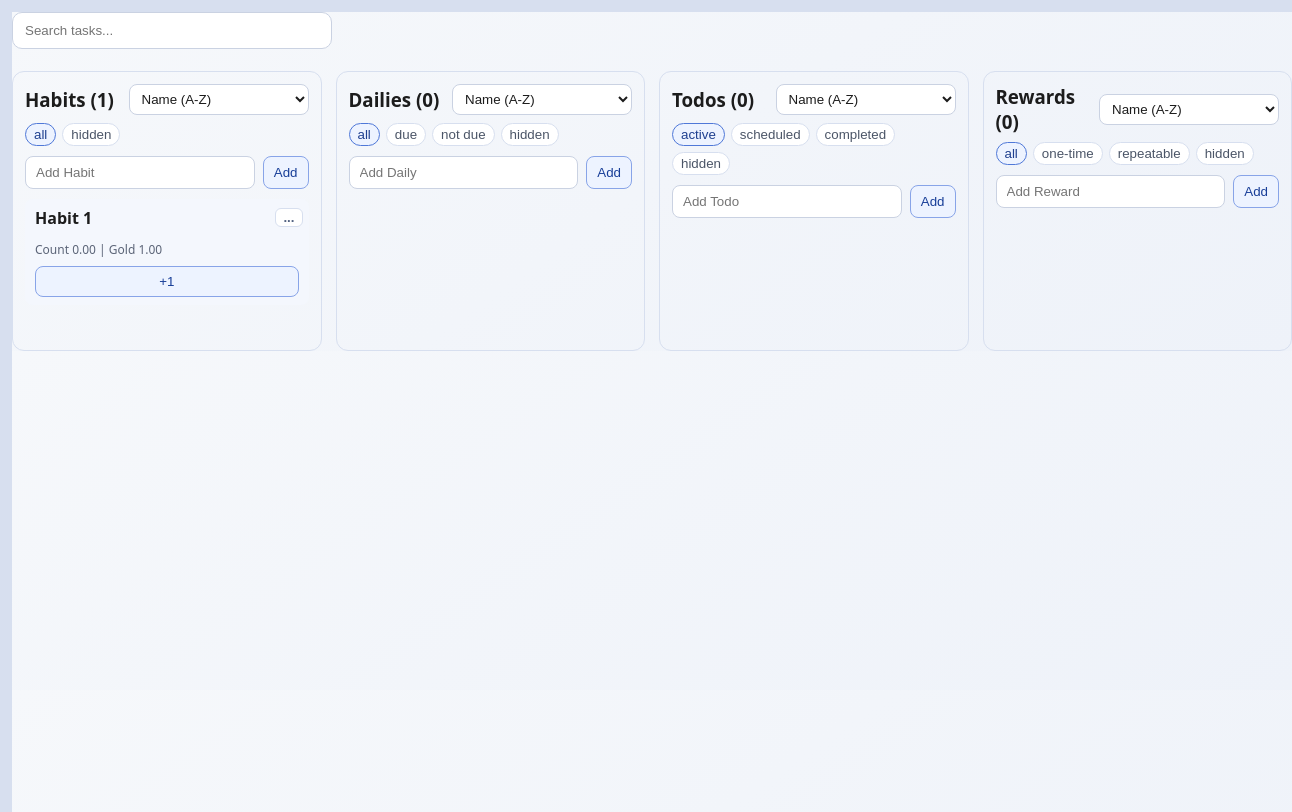
TaskBoardPage › opens/closes quick action menu on outside click and on action click
The width and height of the screenshot is (1292, 812).
Expected: the text "Habit 1" is shown, [35,207,92,229]
Step 1. Click the button "..." → (289, 218), box [275,208,302,227]
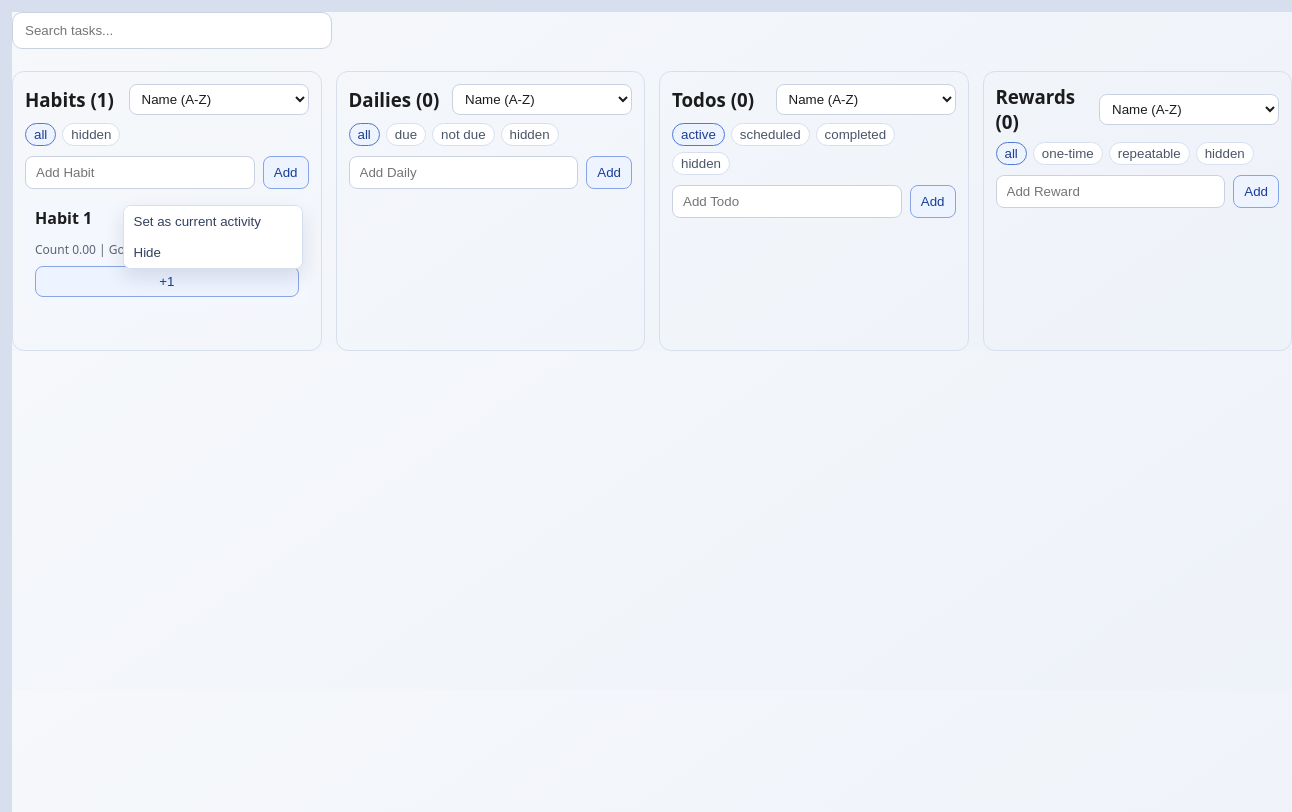
Expected: the button "Set as current activity" is shown, [124,206,302,237]
Step 2. Press the mouse on the element that starts with "Habits" → (652, 182), box [12,12,1291,351]
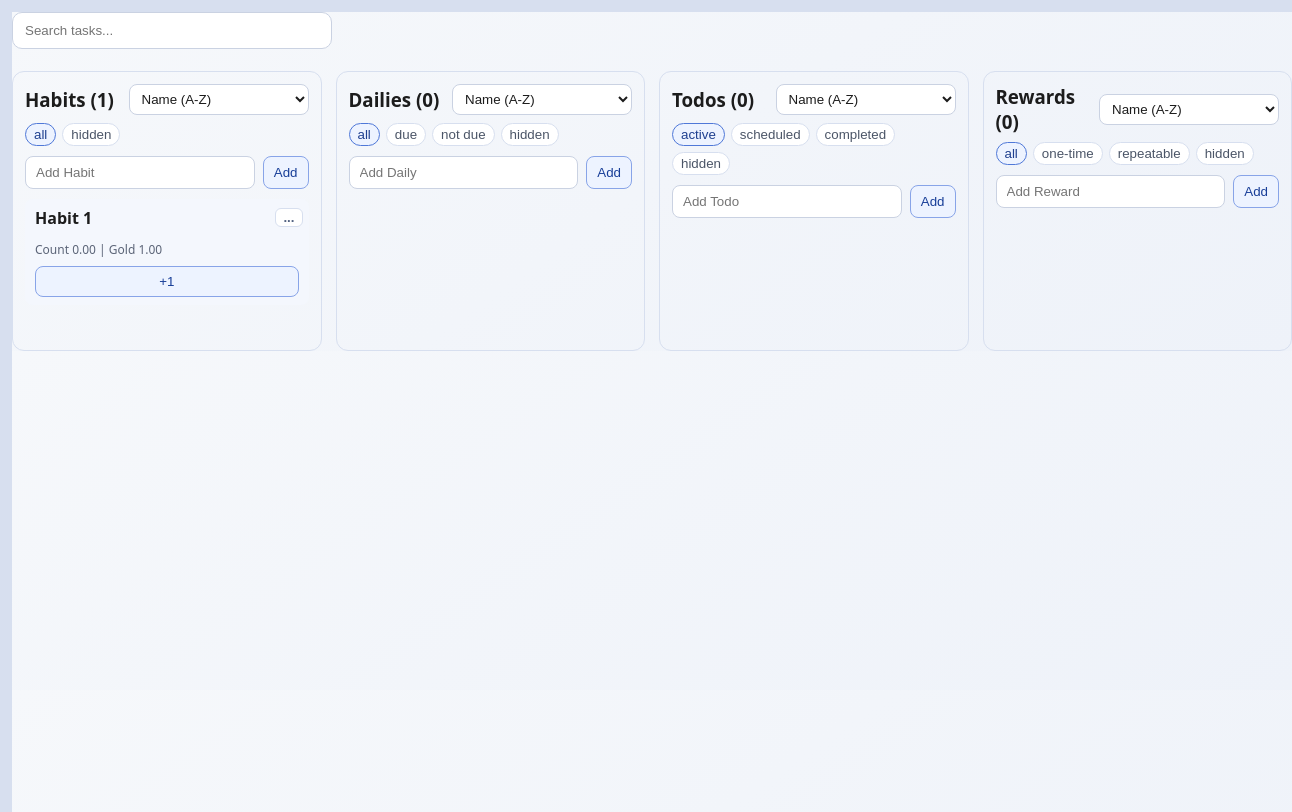
Expected: the button "Set as current activity" is gone
Step 3. Click the button "..." → (289, 218), box [275,208,302,227]
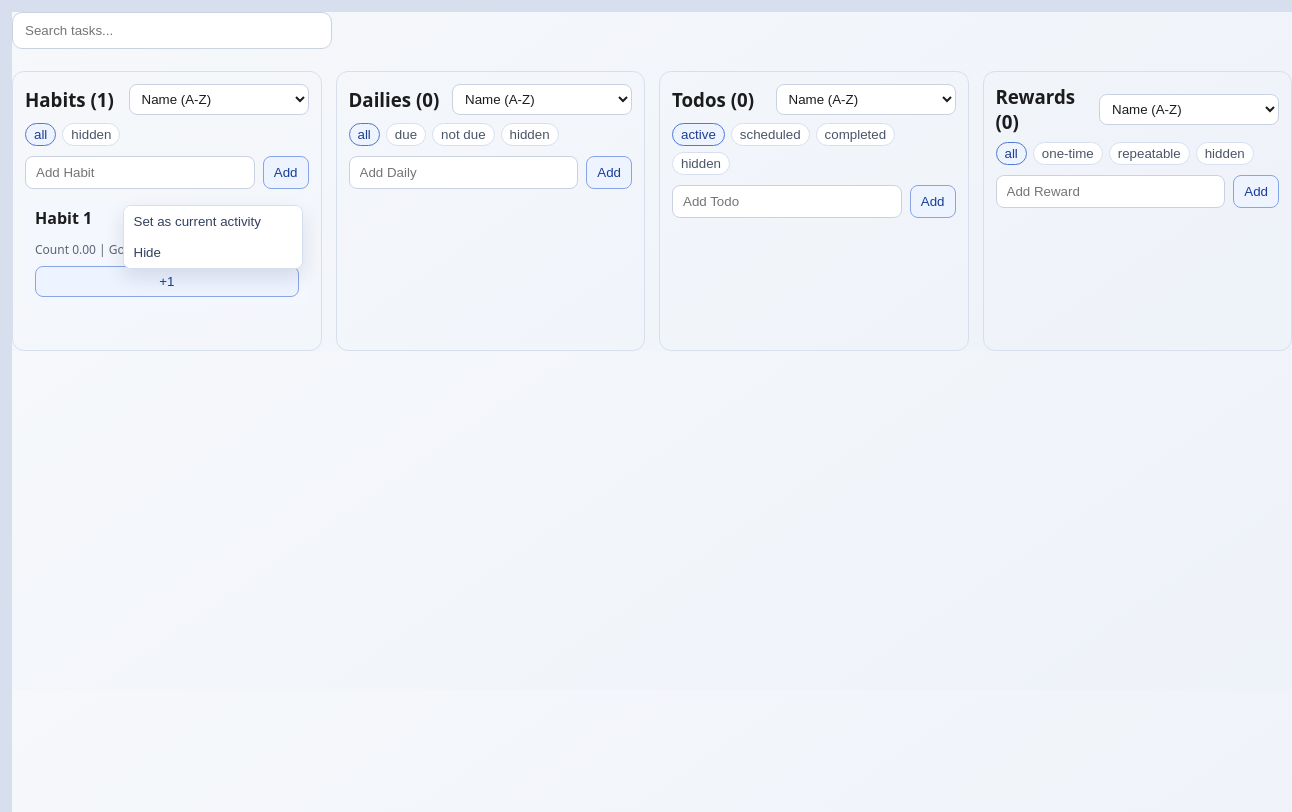
Step 4. Click the button "Set as current activity" → (212, 222), box [124,206,302,237]
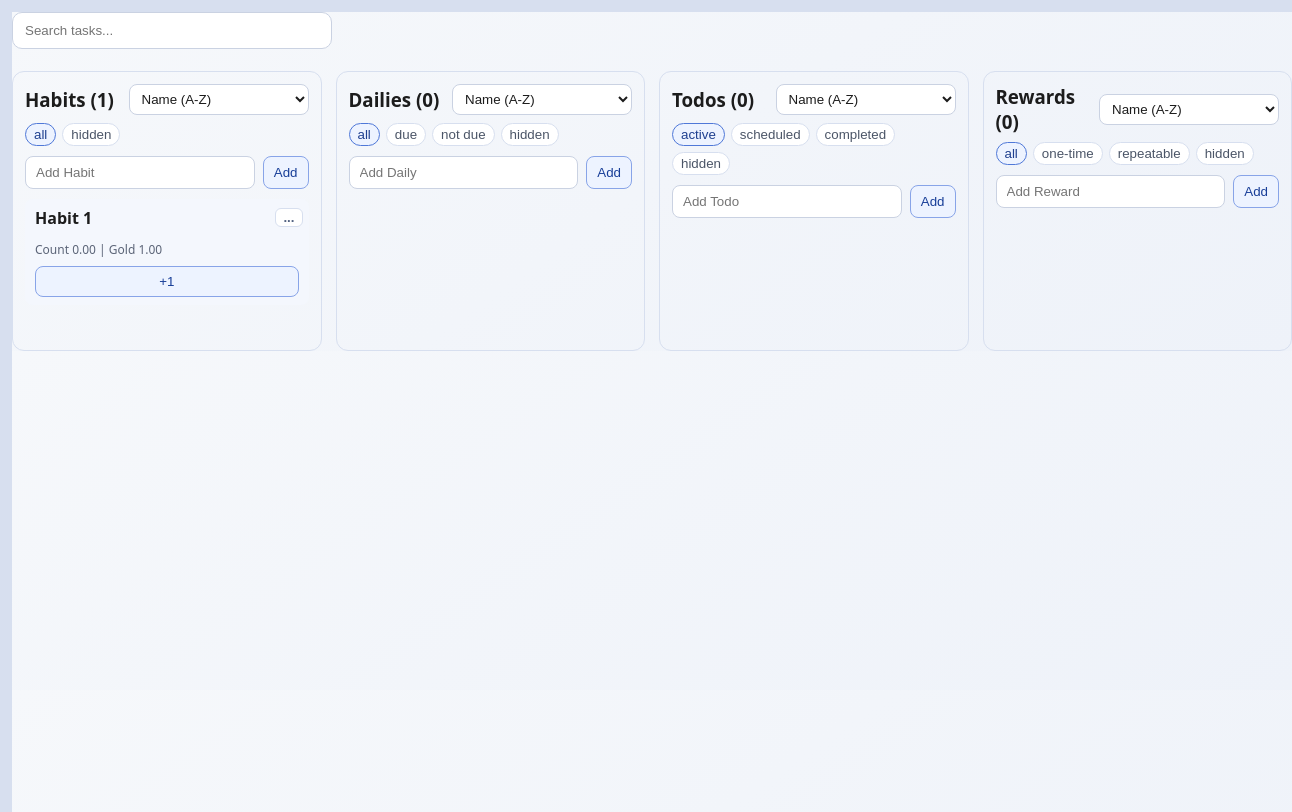
Expected: the button "Set as current activity" is gone
